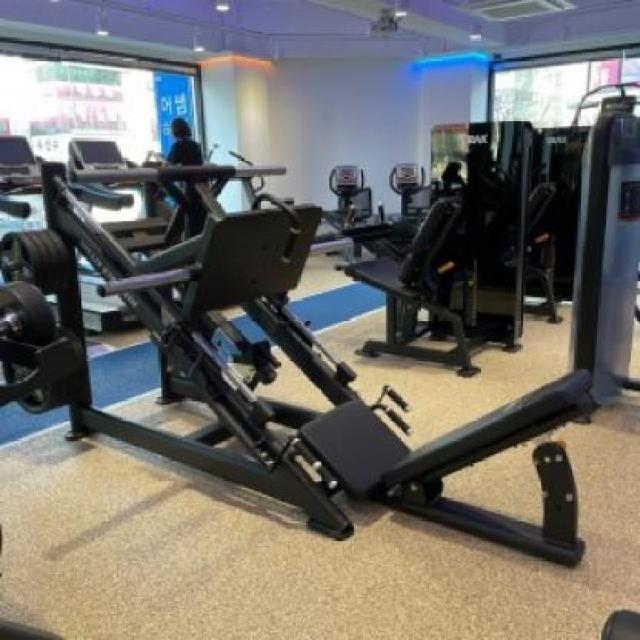leg press: (0, 128, 622, 583)
